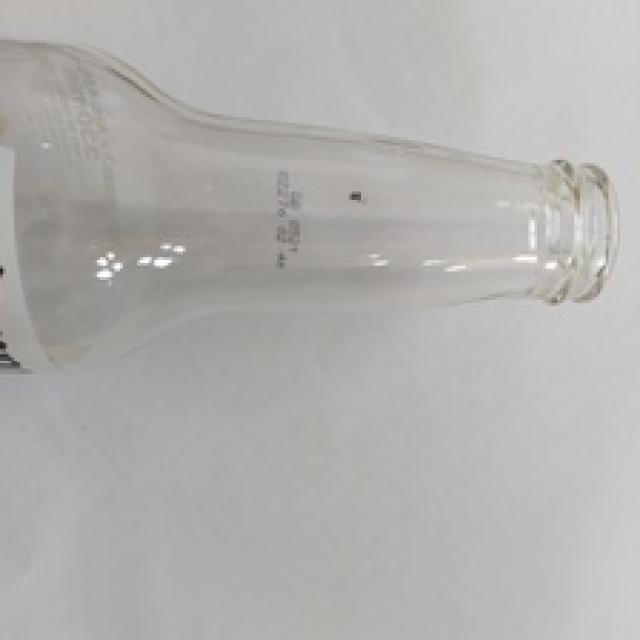Glass: (0, 38, 618, 370)
